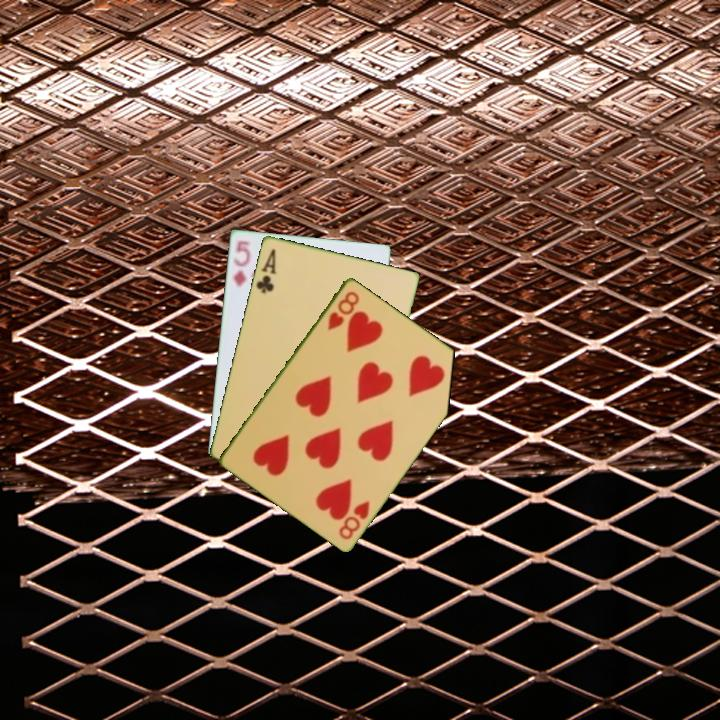5d: (229, 237, 253, 289)
8h: (324, 287, 362, 333), (335, 497, 373, 542)
Ac: (252, 245, 279, 296)
